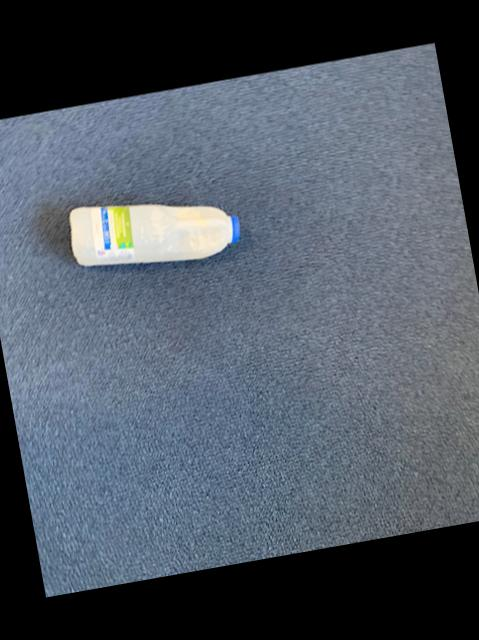plastic: (70, 205, 240, 266)
